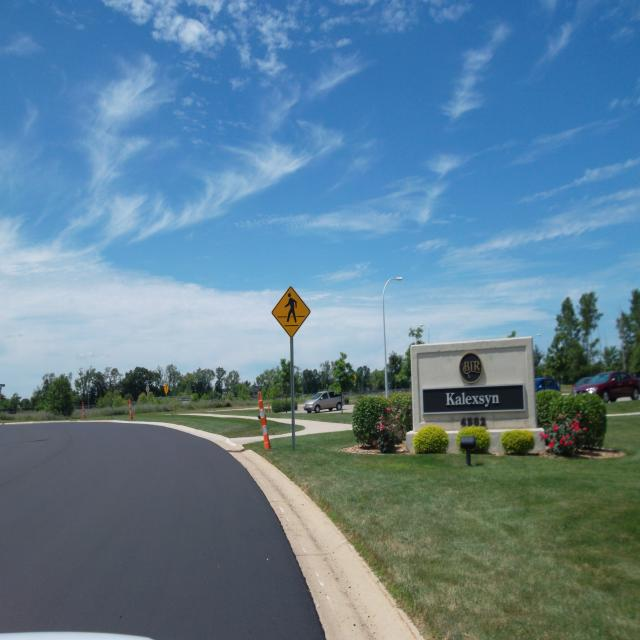warning: (271, 284, 311, 338)
